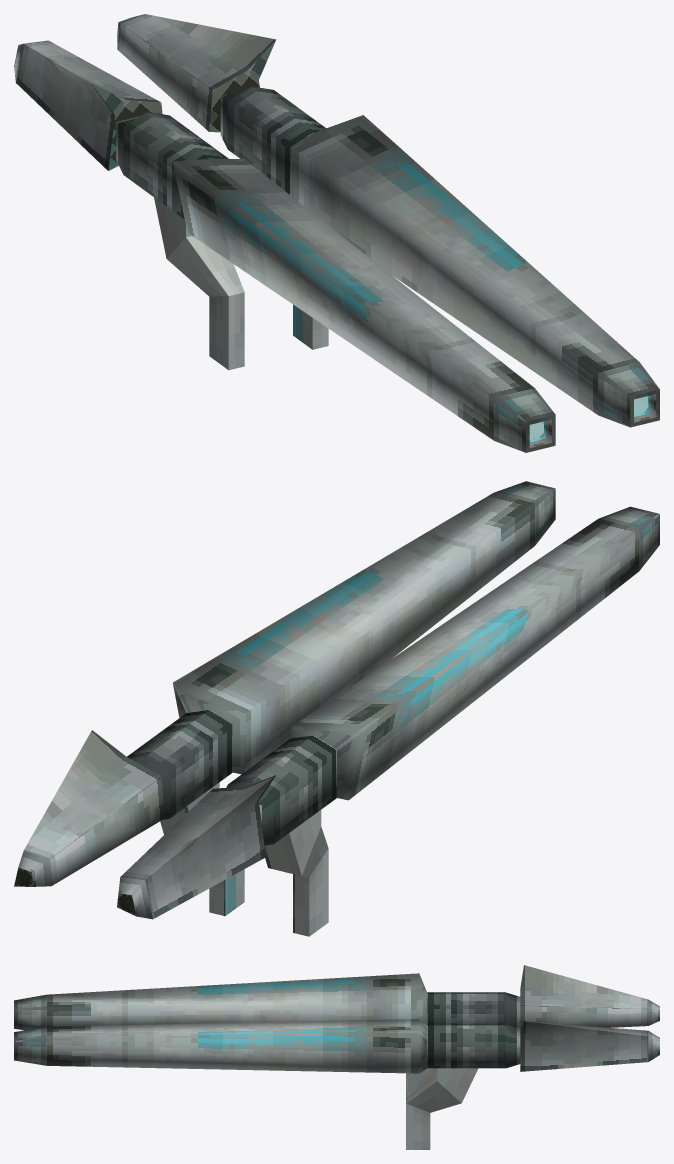
The model's file is ywing_weapon2_s02_l2.fbx.
3 renders of one model, top to bottom at view 1: azimuth 30°, elevation 25°; view 2: azimuth 150°, elevation 25°; view 3: azimuth 270°, elevation 25°, orthographic. The views are drawn at different scales.
Visible parts, largest first — view 1: mesh_node; view 2: mesh_node; view 3: mesh_node.
Boxes of the visible parts, x1,y1,x2,y2 form: mesh_node: (14, 14, 659, 452); mesh_node: (14, 481, 659, 936); mesh_node: (14, 965, 659, 1149).
Bounding box in the file's own units: 0.5652 × 0.6432 × 2.66.
Materials: 1 (1 with a texture image).
